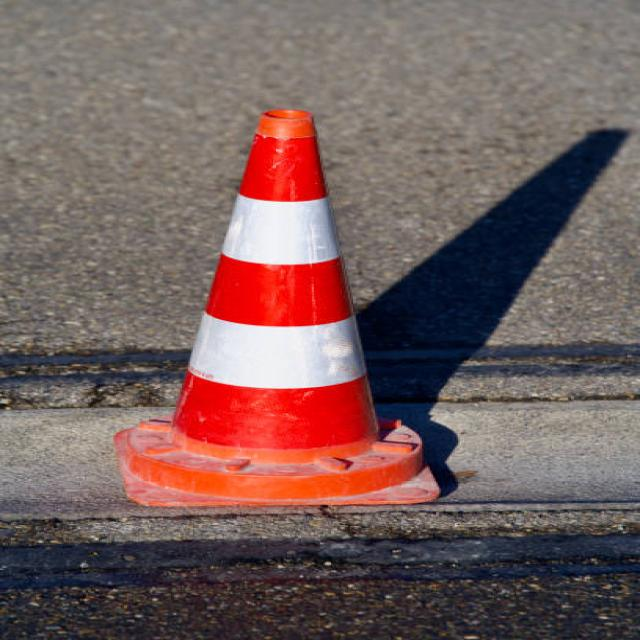Traffic Cone: (47, 56, 494, 533)
